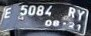plate: (1, 2, 89, 36)
